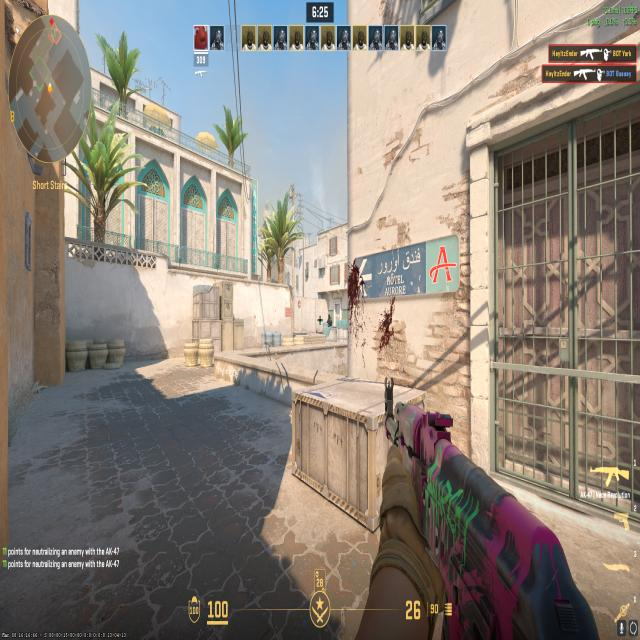ct: (326, 312, 332, 330)
